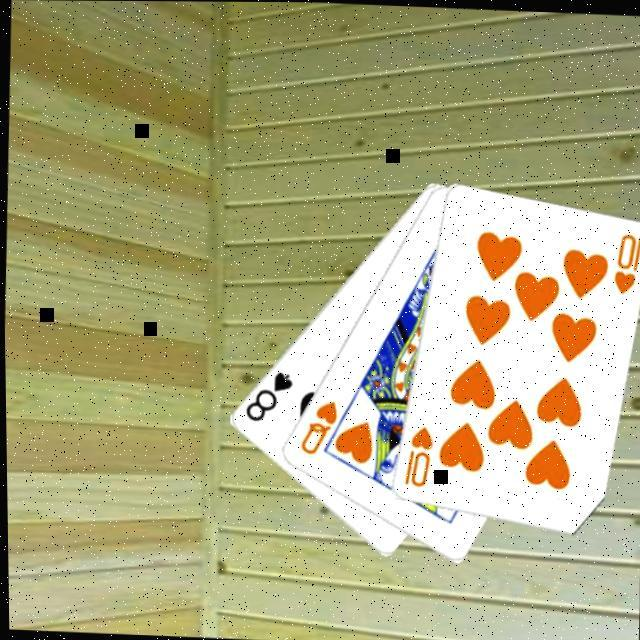10H: (396, 423, 434, 491), (607, 230, 640, 298)
8S: (237, 368, 294, 428)
QH: (294, 397, 338, 459)
